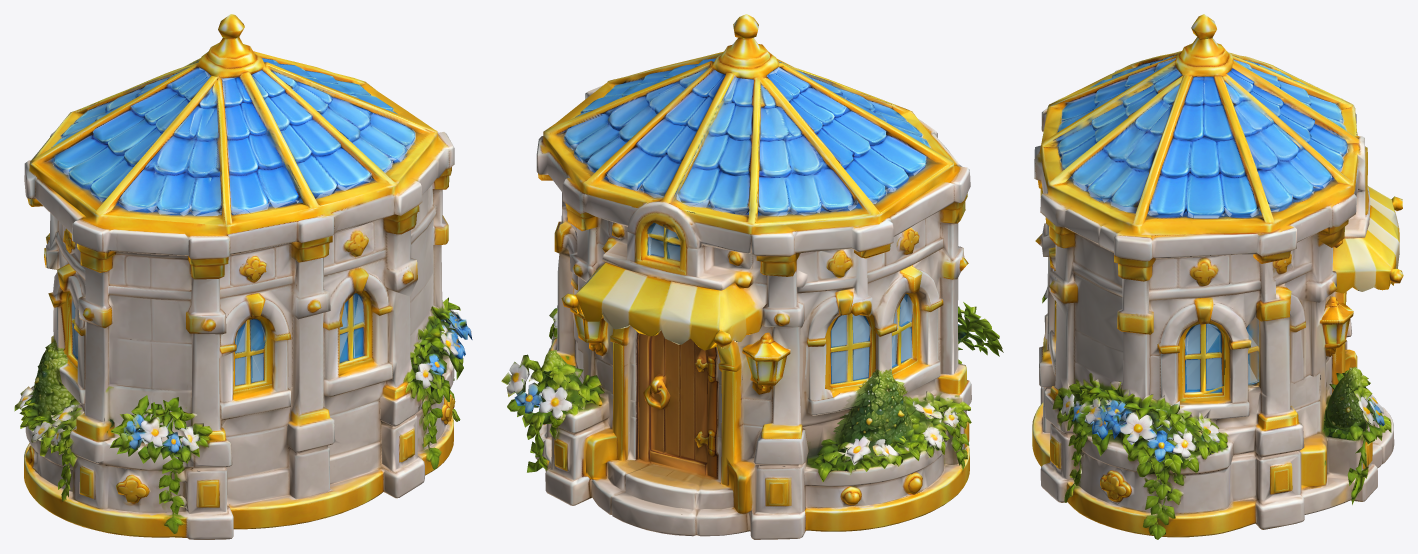
Rendered from HaloDomeHouse_07_parts.glb.
The picture shows the model from 3 angles, left to right: view 1: azimuth 30°, elevation 25°; view 2: azimuth 150°, elevation 25°; view 3: azimuth 270°, elevation 25°; orthographic projection. The views are drawn at different scales.
Parts seen in each view (by area): view 1: HaloDomeHouse_07_Body_t01, HaloDomeHouse_07_Body_t11, HaloDomeHouse_07_Body_t10, HaloDomeHouse_07_Body_t00, HaloDomeHouse_07_Glass, HaloDomeHouse_07_WinPane; view 2: HaloDomeHouse_07_Body_t01, HaloDomeHouse_07_Body_t00, HaloDomeHouse_07_Body_t10, HaloDomeHouse_07_Body_t11, HaloDomeHouse_07_Door, HaloDomeHouse_07_Awning, HaloDomeHouse_07_Glass, HaloDomeHouse_07_WinPane, HaloDomeHouse_07_DoorHw; view 3: HaloDomeHouse_07_Body_t10, HaloDomeHouse_07_Body_t00, HaloDomeHouse_07_Body_t01, HaloDomeHouse_07_Body_t11, HaloDomeHouse_07_Awning, HaloDomeHouse_07_Glass, HaloDomeHouse_07_WinPane.
Part boxes in pixels (<box>): HaloDomeHouse_07_Body_t01: <box>24,60,472,537</box>; HaloDomeHouse_07_Body_t11: <box>20,31,469,520</box>; HaloDomeHouse_07_Body_t10: <box>14,14,467,539</box>; HaloDomeHouse_07_Body_t00: <box>21,14,471,539</box>; HaloDomeHouse_07_Glass: <box>51,62,459,385</box>; HaloDomeHouse_07_WinPane: <box>53,67,458,384</box>; HaloDomeHouse_07_Body_t01: <box>507,52,986,538</box>; HaloDomeHouse_07_Body_t00: <box>509,14,994,530</box>; HaloDomeHouse_07_Body_t10: <box>501,14,1003,531</box>; HaloDomeHouse_07_Body_t11: <box>512,37,993,539</box>; HaloDomeHouse_07_Door: <box>635,330,738,509</box>; HaloDomeHouse_07_Awning: <box>561,262,762,373</box>; HaloDomeHouse_07_Glass: <box>563,61,931,383</box>; HaloDomeHouse_07_WinPane: <box>570,65,924,383</box>; HaloDomeHouse_07_DoorHw: <box>643,344,735,488</box>; HaloDomeHouse_07_Body_t10: <box>1034,14,1394,539</box>; HaloDomeHouse_07_Body_t00: <box>1034,14,1381,538</box>; HaloDomeHouse_07_Body_t01: <box>1032,51,1392,530</box>; HaloDomeHouse_07_Body_t11: <box>1034,37,1383,527</box>; HaloDomeHouse_07_Awning: <box>1332,186,1403,338</box>; HaloDomeHouse_07_Glass: <box>1057,60,1348,424</box>; HaloDomeHouse_07_WinPane: <box>1058,78,1347,420</box>.
Bounding box in the file's own units: 18.68 × 19.59 × 15.19.
Materials: 9 (8 with a texture image).
